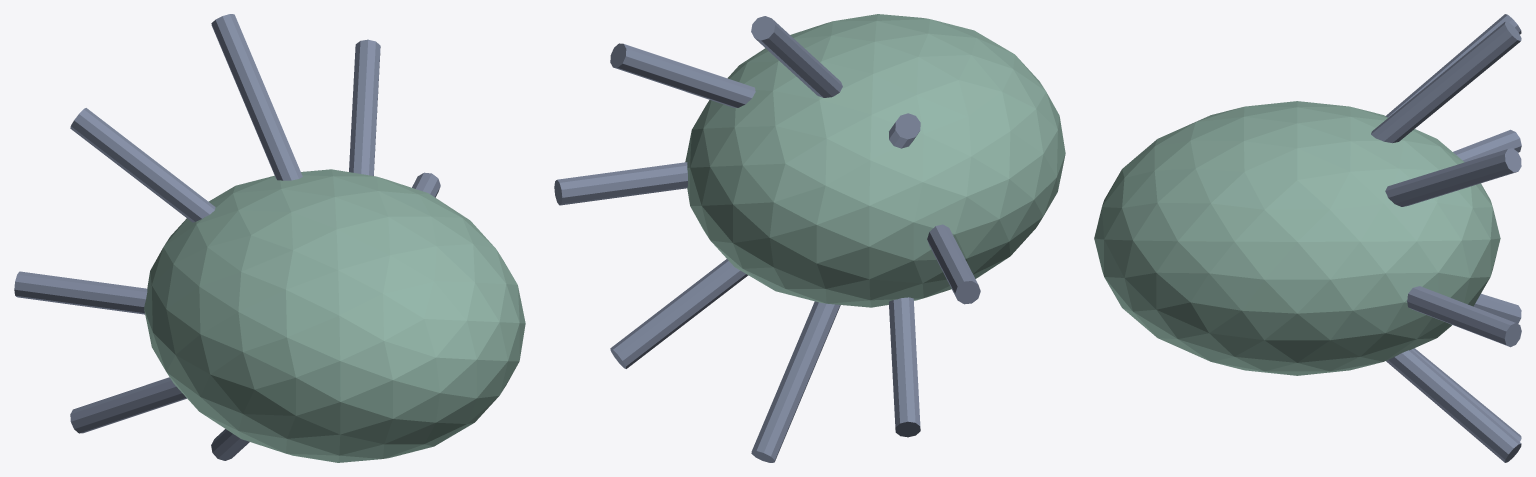
The model's file is 17_Floating_Island_Grazer.glb.
3 renders of one model, left to right at view 1: azimuth 30°, elevation 25°; view 2: azimuth 150°, elevation 25°; view 3: azimuth 270°, elevation 25°, orthographic. The views are drawn at different scales.
Parts seen in each view (by area): view 1: 17_Floating_Island_Grazer_00, 17_Floating_Island_Grazer_03, 17_Floating_Island_Grazer_04, 17_Floating_Island_Grazer_05, 17_Floating_Island_Grazer_02, 17_Floating_Island_Grazer_06, 17_Floating_Island_Grazer_07; view 2: 17_Floating_Island_Grazer_00, 17_Floating_Island_Grazer_07, 17_Floating_Island_Grazer_08, 17_Floating_Island_Grazer_02, 17_Floating_Island_Grazer_01, 17_Floating_Island_Grazer_06, 17_Floating_Island_Grazer_03, 17_Floating_Island_Grazer_05, 17_Floating_Island_Grazer_04; view 3: 17_Floating_Island_Grazer_00, 17_Floating_Island_Grazer_03, 17_Floating_Island_Grazer_08, 17_Floating_Island_Grazer_02, 17_Floating_Island_Grazer_01, 17_Floating_Island_Grazer_05, 17_Floating_Island_Grazer_04, 17_Floating_Island_Grazer_06, 17_Floating_Island_Grazer_07.
Boxes of the visible parts, x1,y1,x2,y2 form: 17_Floating_Island_Grazer_00: (144,169,525,462); 17_Floating_Island_Grazer_03: (211,14,302,180); 17_Floating_Island_Grazer_04: (70,108,215,222); 17_Floating_Island_Grazer_05: (14,271,147,314); 17_Floating_Island_Grazer_02: (349,39,380,175); 17_Floating_Island_Grazer_06: (70,377,186,433); 17_Floating_Island_Grazer_07: (211,429,249,460); 17_Floating_Island_Grazer_00: (685,14,1065,307); 17_Floating_Island_Grazer_07: (751,301,840,462); 17_Floating_Island_Grazer_08: (610,259,748,368); 17_Floating_Island_Grazer_02: (610,43,755,107); 17_Floating_Island_Grazer_01: (554,162,687,205); 17_Floating_Island_Grazer_06: (889,297,920,437); 17_Floating_Island_Grazer_03: (751,16,842,97); 17_Floating_Island_Grazer_05: (927,224,980,304); 17_Floating_Island_Grazer_04: (889,113,920,148); 17_Floating_Island_Grazer_00: (1094,101,1500,375); 17_Floating_Island_Grazer_03: (1371,21,1521,143); 17_Floating_Island_Grazer_08: (1386,349,1521,462); 17_Floating_Island_Grazer_02: (1385,148,1521,206); 17_Floating_Island_Grazer_01: (1407,286,1521,347); 17_Floating_Island_Grazer_05: (1453,129,1521,162); 17_Floating_Island_Grazer_04: (1385,14,1521,117); 17_Floating_Island_Grazer_06: (1473,293,1521,323); 17_Floating_Island_Grazer_07: (1411,348,1521,441).
Size of the model in its own units: 3.75 by 3.74 by 3.37.
